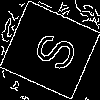S: (24, 25, 79, 75)
